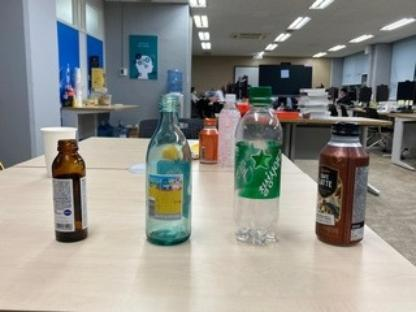Glass Bottle: (144, 89, 192, 247)
Others: (52, 138, 89, 245)
Plastic Bottle: (231, 82, 285, 250), (314, 118, 370, 249)
